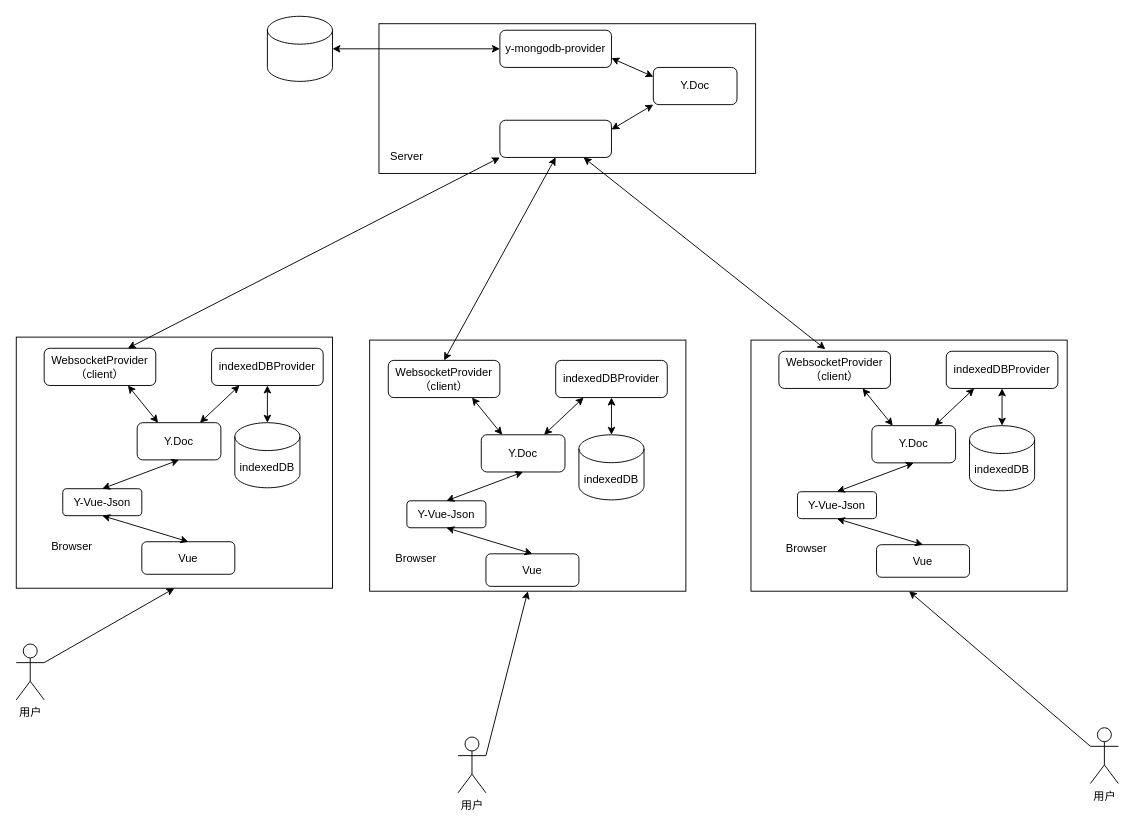
This 1135x829 diagram has some shape labels left out. Each missing label, with the centre of its shape:
"MongoDB" belongs at [299,48].
"WebsocketProvider （server）" belongs at [555,138].
